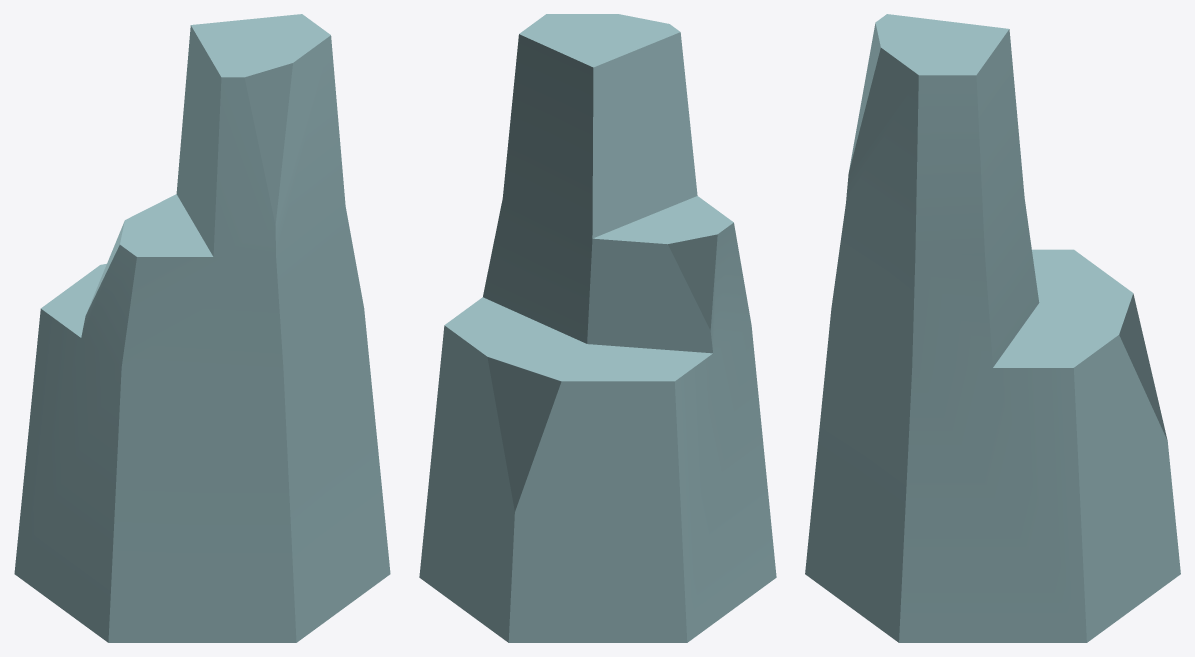
The model's file is stone_tall7.obj.
3 renders of one model, left to right at view 1: azimuth 30°, elevation 25°; view 2: azimuth 150°, elevation 25°; view 3: azimuth 270°, elevation 25°, orthographic. The views are drawn at different scales.
Parts seen in each view (by area): view 1: stone_tall7; view 2: stone_tall7; view 3: stone_tall7.
Part boxes in pixels (x1=…): stone_tall7: x1=14, y1=14, x2=390, y2=642; stone_tall7: x1=419, y1=14, x2=776, y2=642; stone_tall7: x1=805, y1=14, x2=1180, y2=642.
Size of the model in its own units: 4.25 by 7.83 by 4.91.
